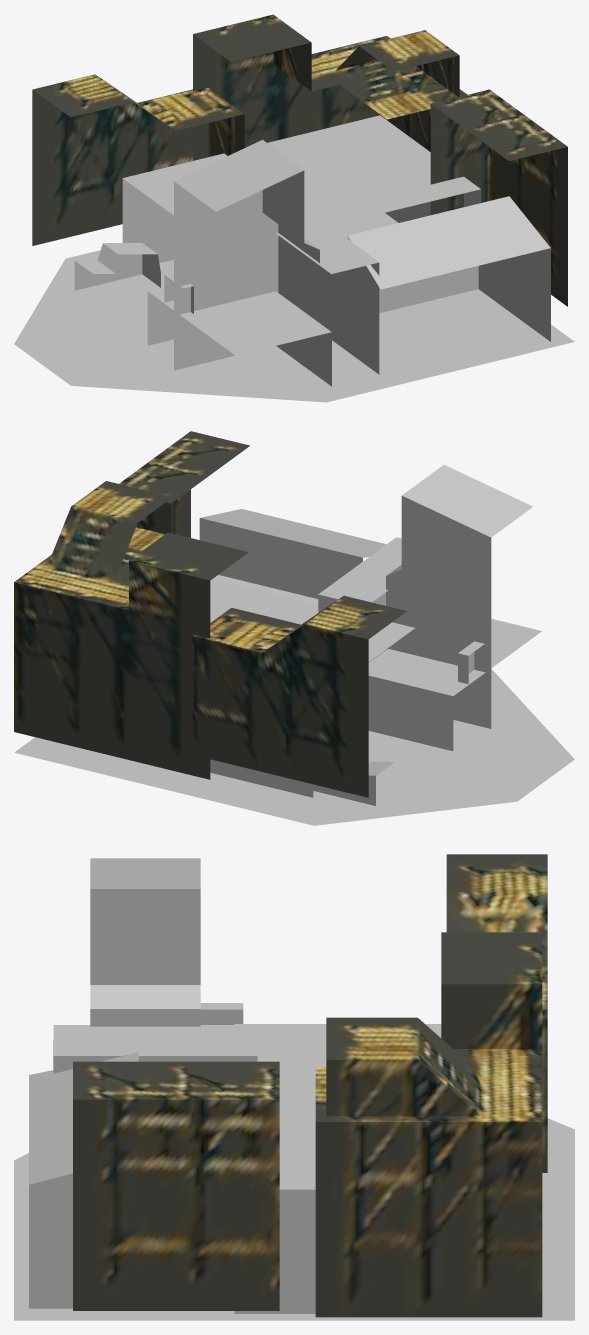
Rendered from T_Farm_01.fbx.
3 views of the same model, one above another, from view 1: azimuth 30°, elevation 25°; view 2: azimuth 150°, elevation 25°; view 3: azimuth 270°, elevation 25° (orthographic). The views are drawn at different scales.
Parts seen in each view (by area): view 1: T_Farm_01_on, T_BuildForm_01, T_BuildForm_03 (1), T_BuildForm_02 (4); view 2: T_Farm_01_on, T_BuildForm_01, T_BuildForm_03 (1), T_BuildForm_02 (4); view 3: T_BuildForm_01, T_Farm_01_on, T_BuildForm_02 (4), T_BuildForm_03 (1).
Part boxes in pixels (<box>): T_Farm_01_on: <box>14,115,574,402</box>; T_BuildForm_01: <box>193,14,467,160</box>; T_BuildForm_03 (1): <box>32,74,244,245</box>; T_BuildForm_02 (4): <box>430,89,567,306</box>; T_Farm_01_on: <box>14,465,574,825</box>; T_BuildForm_01: <box>14,481,248,779</box>; T_BuildForm_03 (1): <box>192,595,406,797</box>; T_BuildForm_02 (4): <box>119,431,249,537</box>; T_BuildForm_01: <box>315,932,542,1317</box>; T_Farm_01_on: <box>14,858,574,1320</box>; T_BuildForm_02 (4): <box>73,1061,279,1310</box>; T_BuildForm_03 (1): <box>446,854,547,1172</box>.
Size of the model in its own units: 6.58 by 3 by 5.53.
